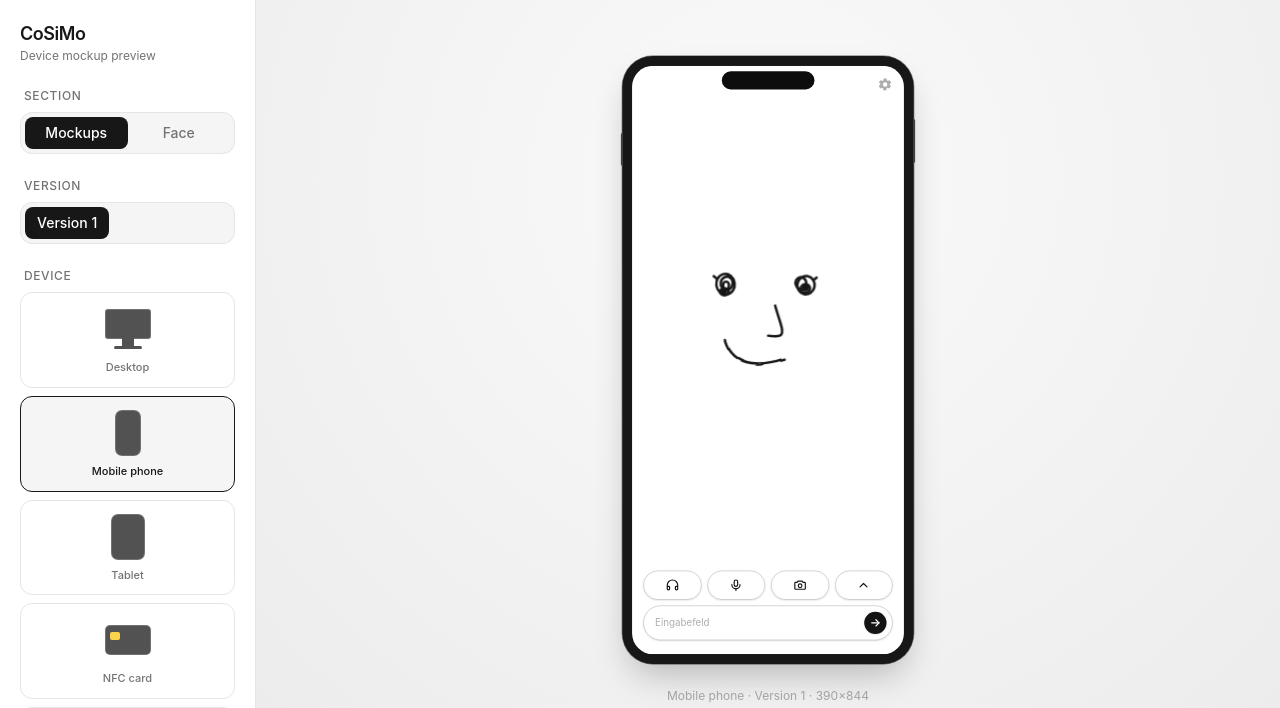
Test: CoSiMo mockup smoke › toggles the 'more' panel from the dock chevron
Click the button named "Mehr".
click(864, 585)  # box [835,571,893,600]
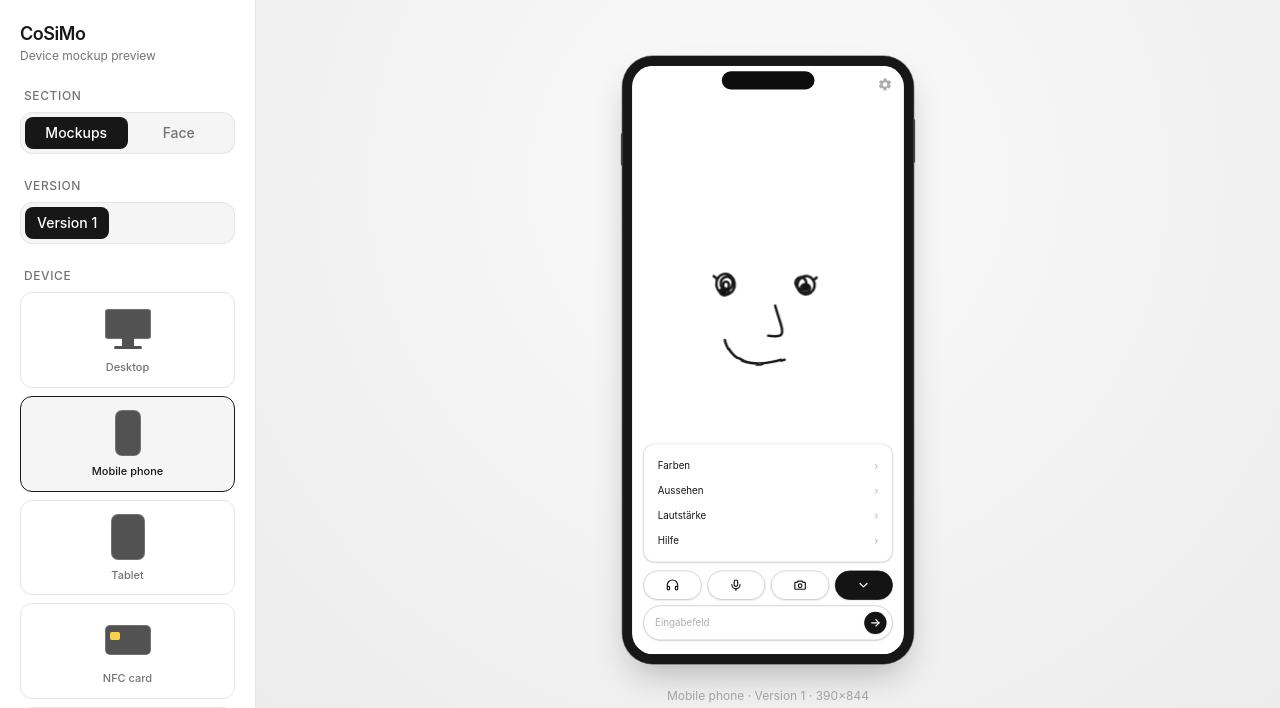
Expected: the text "Lautstärke" is shown, [658,508,706,522]
